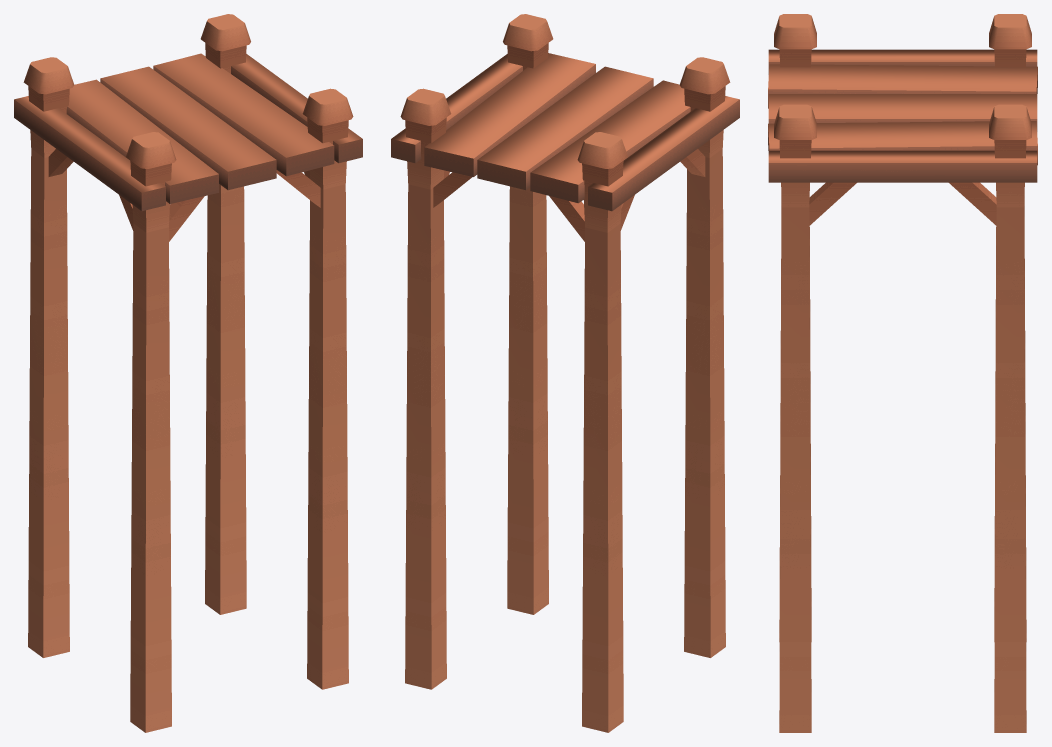
Rendered from structure-platform-dock-long.glb.
3 views of the same model, side by side, from view 1: azimuth 30°, elevation 25°; view 2: azimuth 150°, elevation 25°; view 3: azimuth 270°, elevation 25° (orthographic). The views are drawn at different scales.
Visible parts, largest first — view 1: structure-platform-dock; view 2: structure-platform-dock; view 3: structure-platform-dock.
Boxes of the visible parts, x1=… form: structure-platform-dock: x1=14, y1=14, x2=362, y2=732; structure-platform-dock: x1=391, y1=14, x2=739, y2=732; structure-platform-dock: x1=768, y1=14, x2=1037, y2=732.
Bounding box in the file's own units: 2.5 × 6.31 × 2.51.
Materials: 1 (1 with a texture image).
